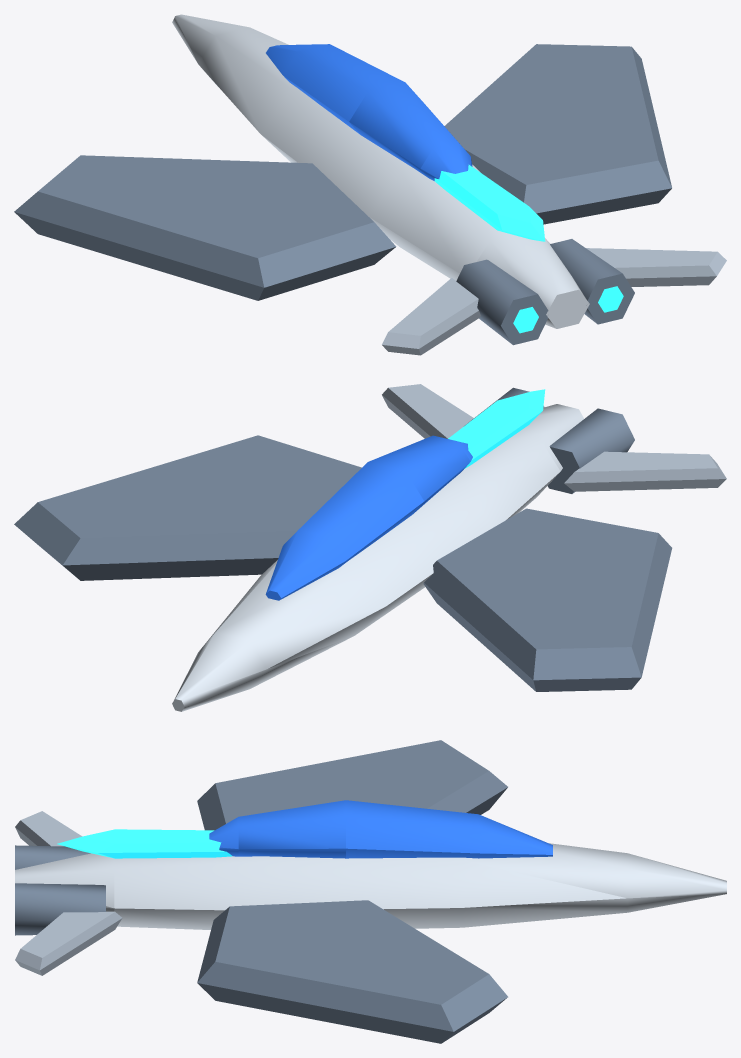
File: player_redesign_a.glb
3 views of the same model, one above another, from view 1: azimuth 30°, elevation 25°; view 2: azimuth 150°, elevation 25°; view 3: azimuth 270°, elevation 25° (orthographic). The views are drawn at different scales.
Visible parts, largest first — view 1: REDESIGN A // STARLANCE Mk III; view 2: REDESIGN A // STARLANCE Mk III; view 3: REDESIGN A // STARLANCE Mk III.
Part boxes in pixels (x1,y1,x2,y2): REDESIGN A // STARLANCE Mk III: (14, 14, 726, 355); REDESIGN A // STARLANCE Mk III: (14, 384, 726, 711); REDESIGN A // STARLANCE Mk III: (15, 740, 726, 1043).
Bounding box in the file's own units: 4 × 0.7297 × 4.31.
